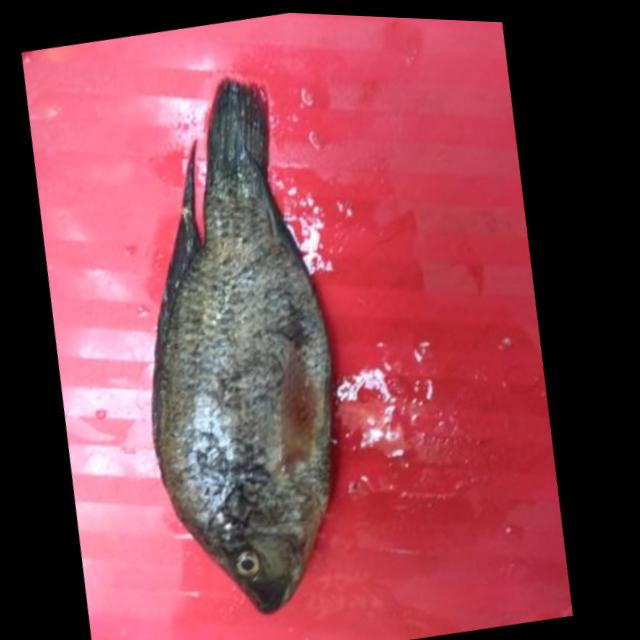Tilapia: (70, 59, 394, 635)
